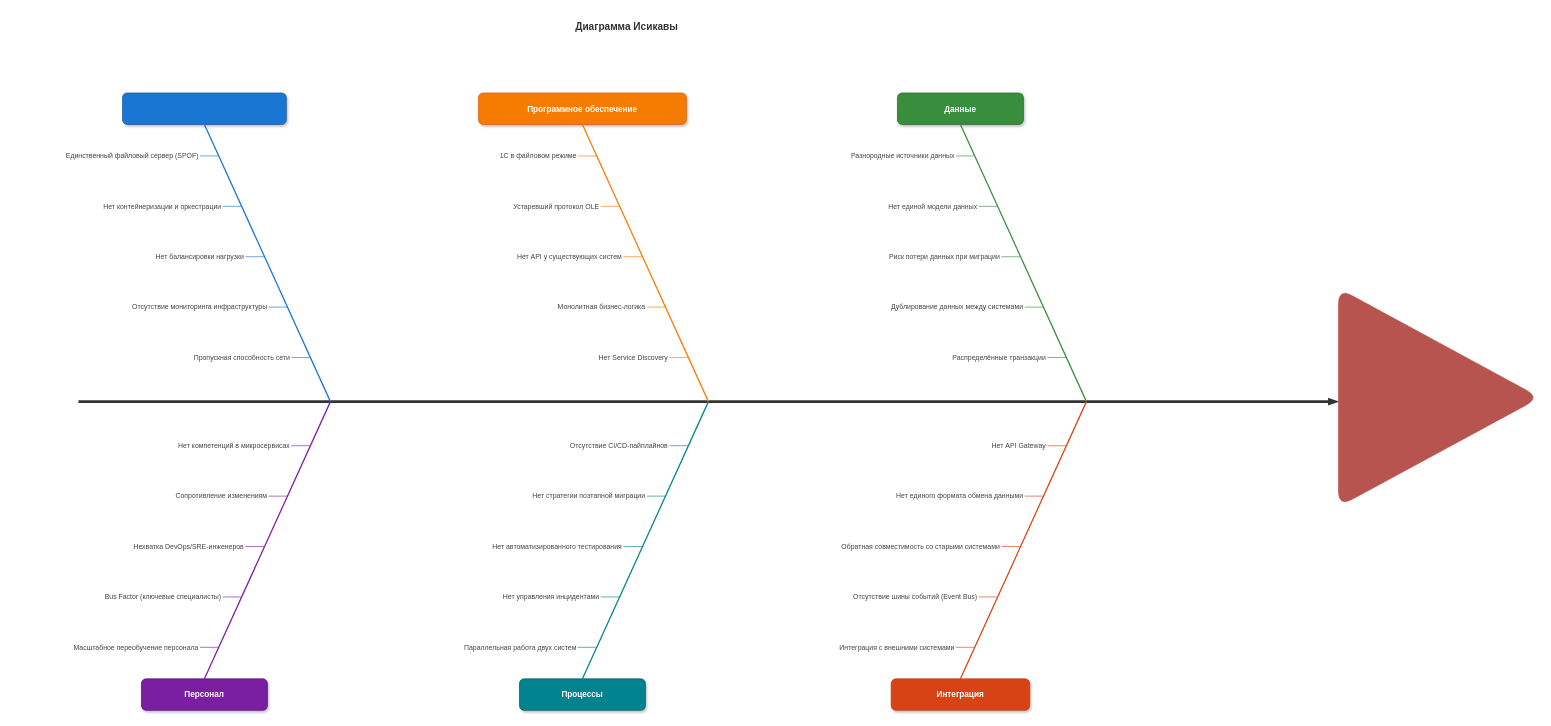
Image size: 1551x726. Some labels were removed from this diagram. Each missing label, with the centre of its shape:
"Инфраструктура" goes at pixel 204 109.
"Узкие места при миграции на микросервисную архитектуру" goes at pixel 1439 397.
